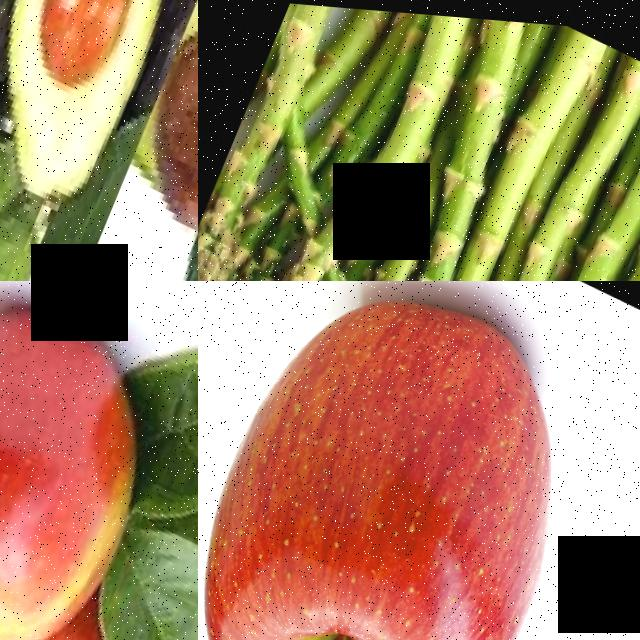apple: (198, 281, 630, 640), (0, 281, 190, 640)
asparagus: (278, 0, 478, 281), (198, 0, 386, 281), (351, 61, 560, 281), (483, 215, 615, 281)
avocado: (0, 0, 198, 243), (105, 0, 198, 281)
